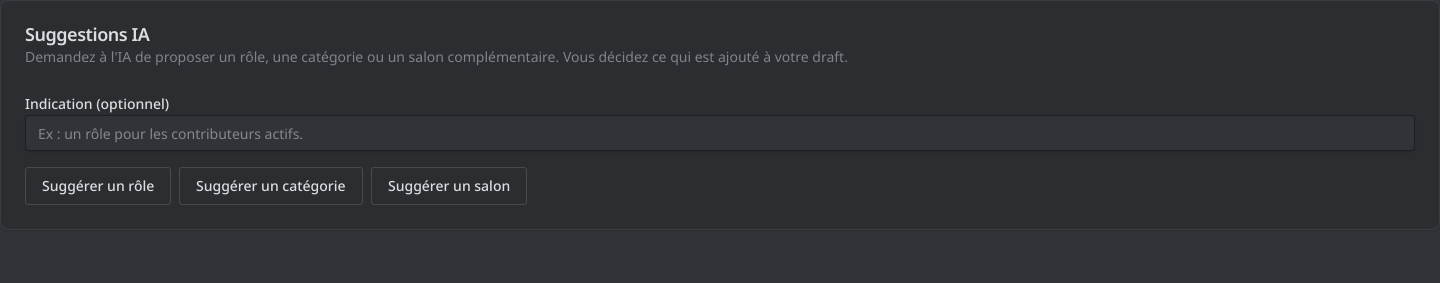
Scenario: SuggestionsPanel › affiche l'erreur API en cas d'échec
Click the button "Suggérer un rôle" at [98, 186], box [25,167,171,205]
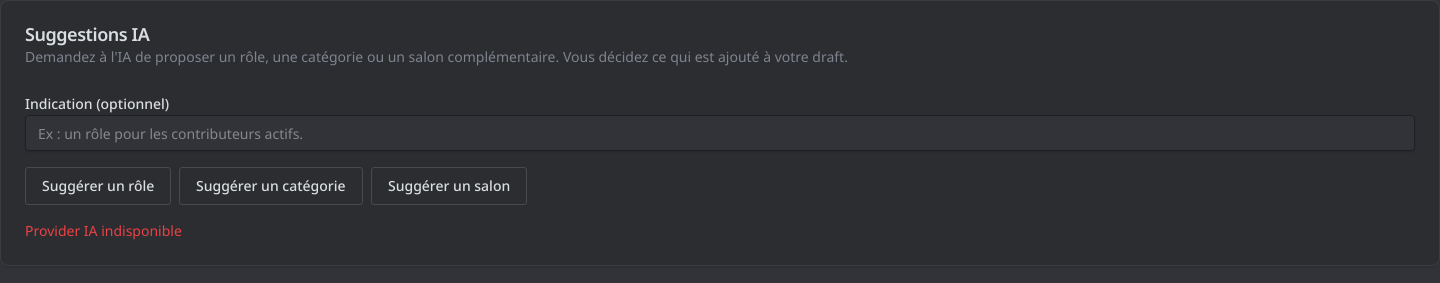
Result: the message reads "Provider IA indisponible" at [25,221,182,240]
